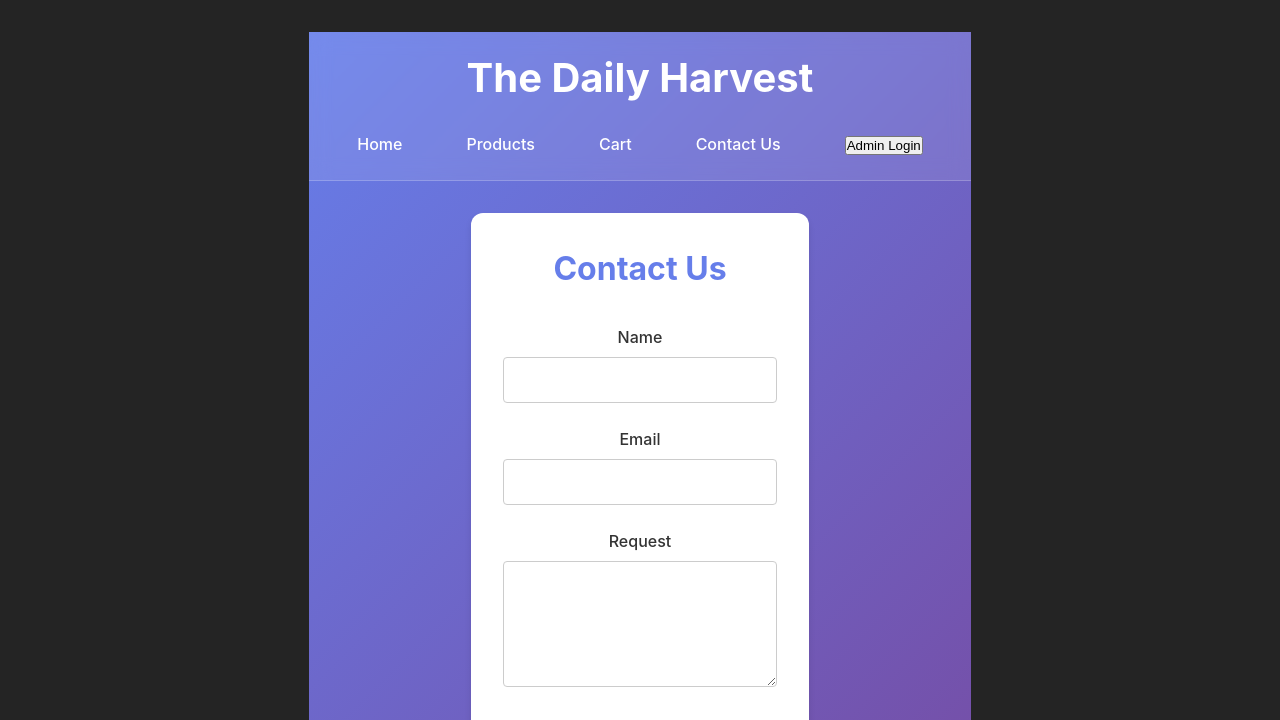
Test: ContactPage › clears form and closes modal when Continue is clicked
The image size is (1280, 720).
Type "John Doe" into the field labelled "Name" at (640, 380), box 503,357 -> 777,403
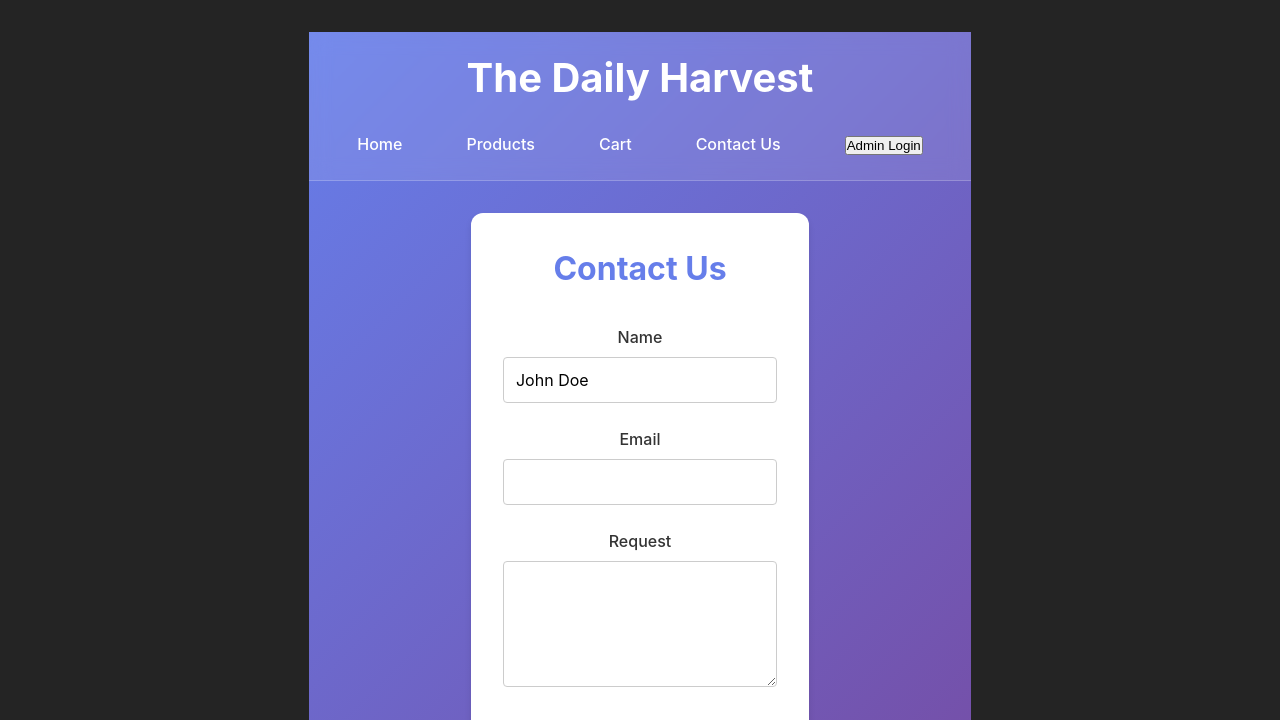
Type "john@example.com" into the field labelled "Email" at (640, 482), box 503,459 -> 777,505
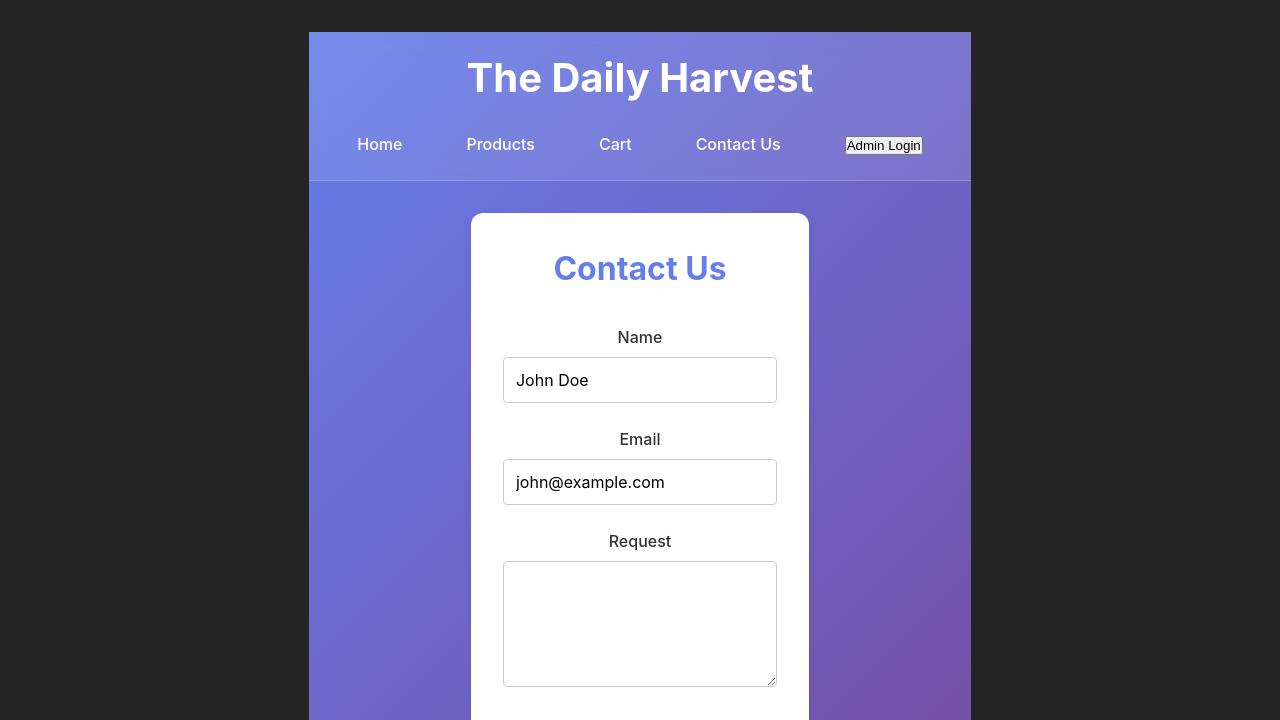
Type "I need help" into the text box labelled "Request" at (640, 624), box 503,561 -> 777,687
(page scrolled)
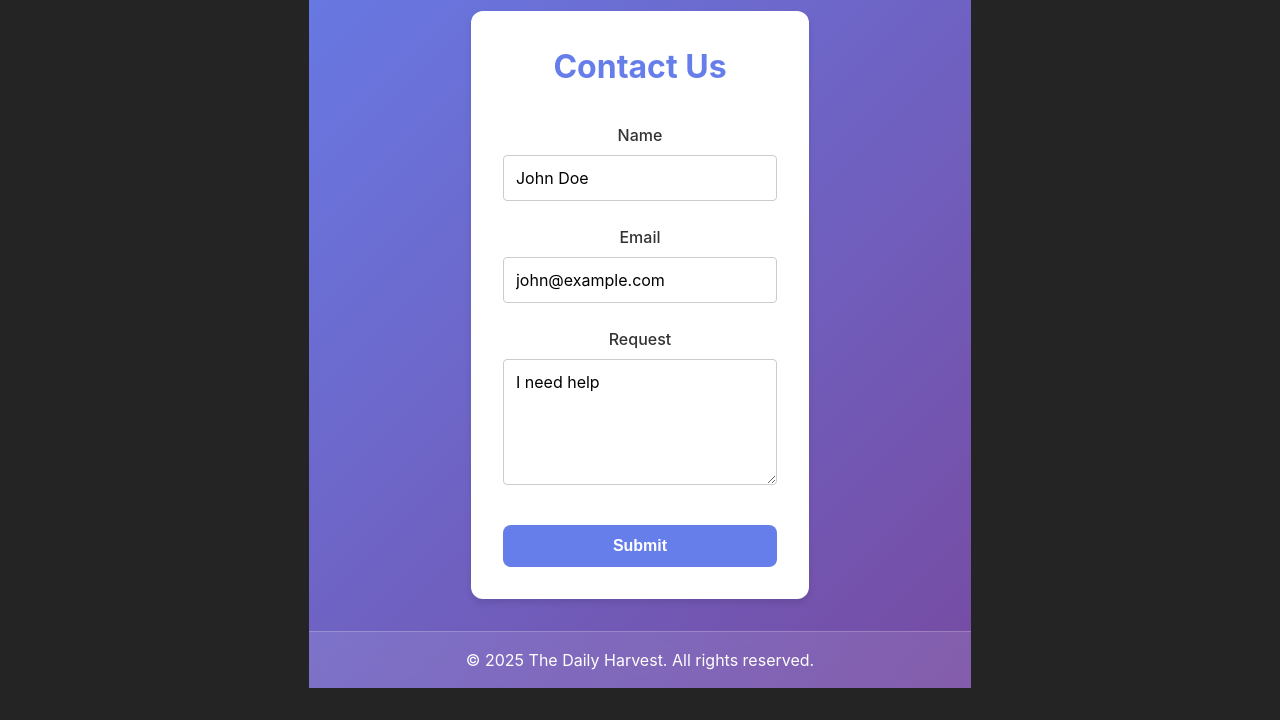
Click the button "Submit" at (640, 546), box 503,525 -> 777,567
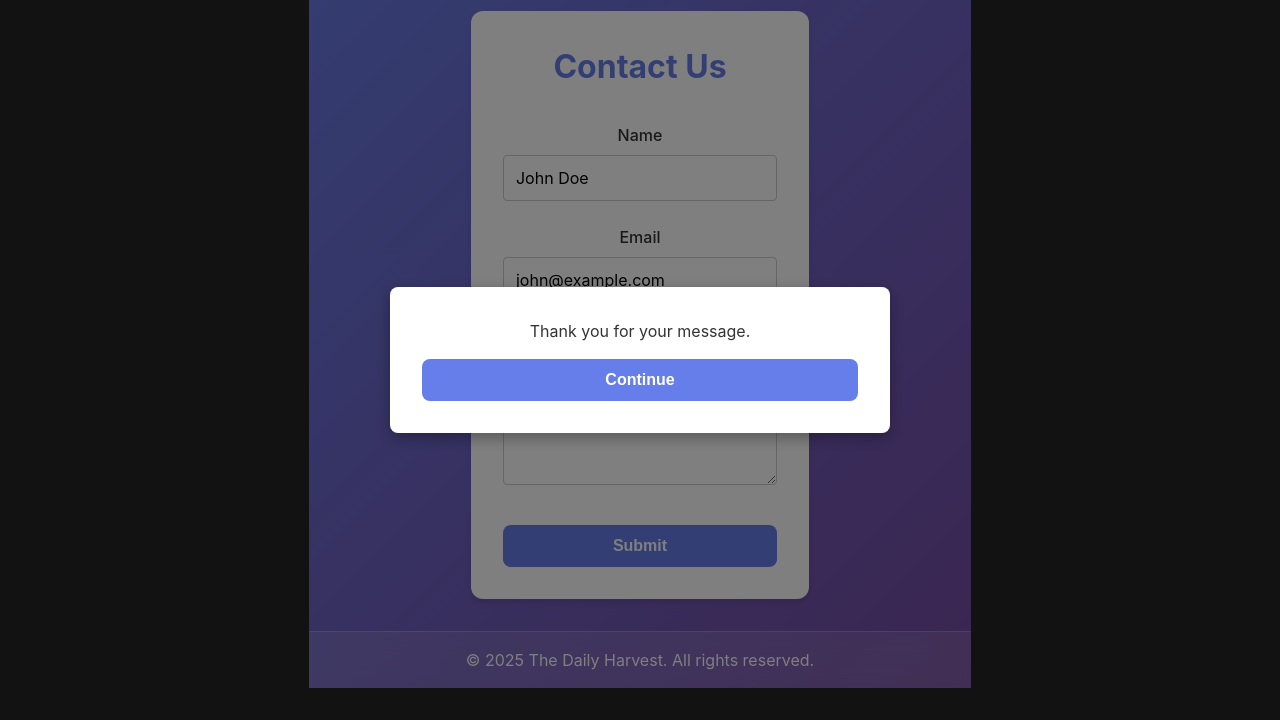
expect the text "Thank you for your message." is shown: met, box 530,321 -> 750,341
Click the button "Continue" at (640, 380), box 422,359 -> 858,401
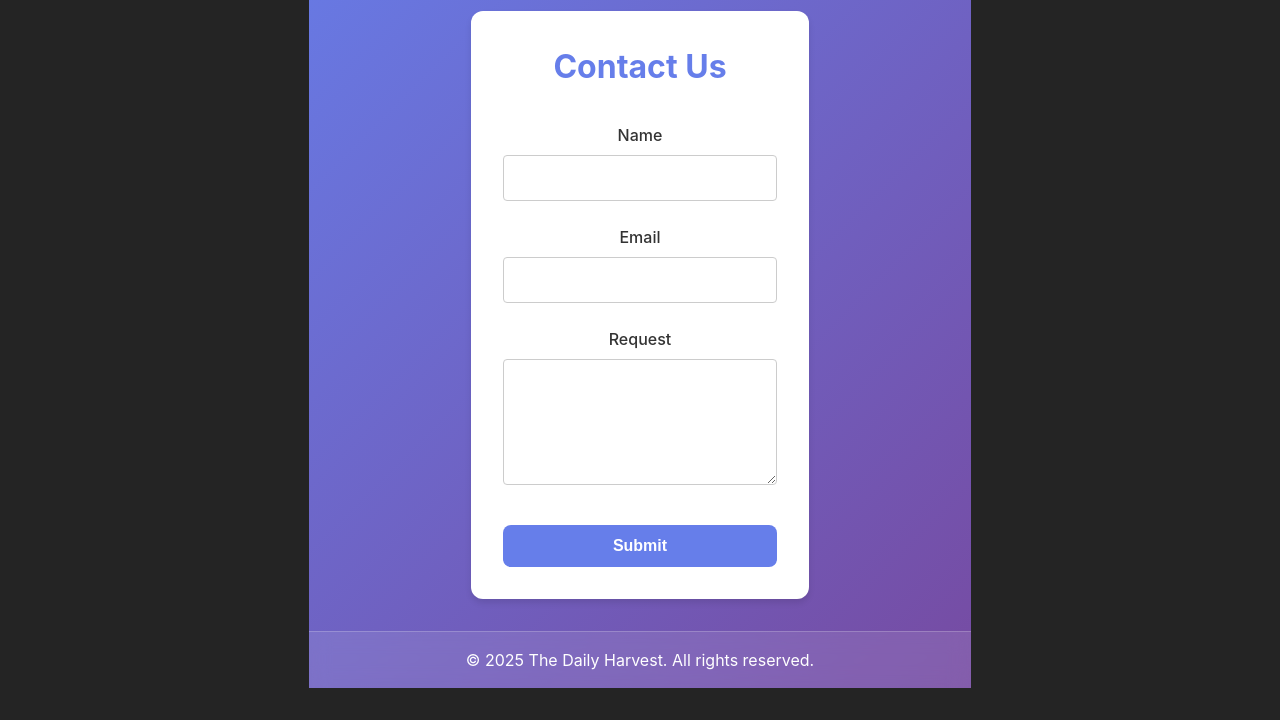
expect the text "Thank you for your message." is gone: met
expect the field labelled "Name" is empty: met, box 503,155 -> 777,201
expect the field labelled "Email" is empty: met, box 503,257 -> 777,303
